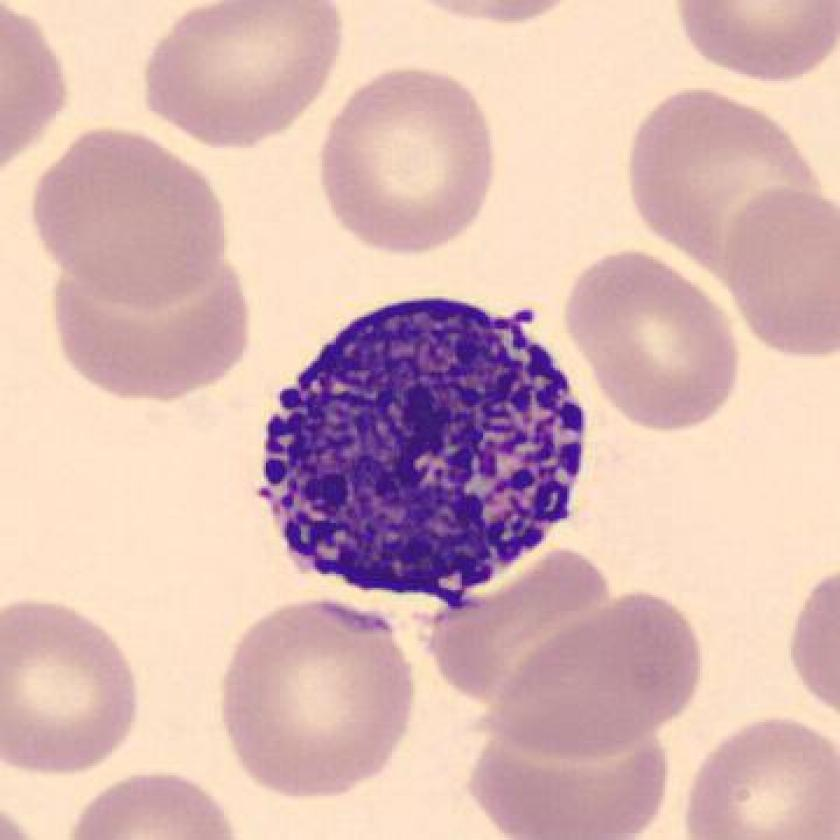basophil: (260, 288, 598, 616)
